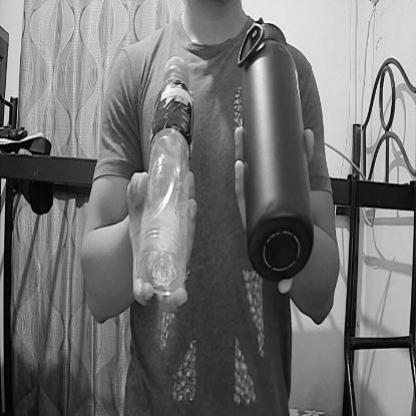Plastic Bottle: (131, 49, 202, 305)
